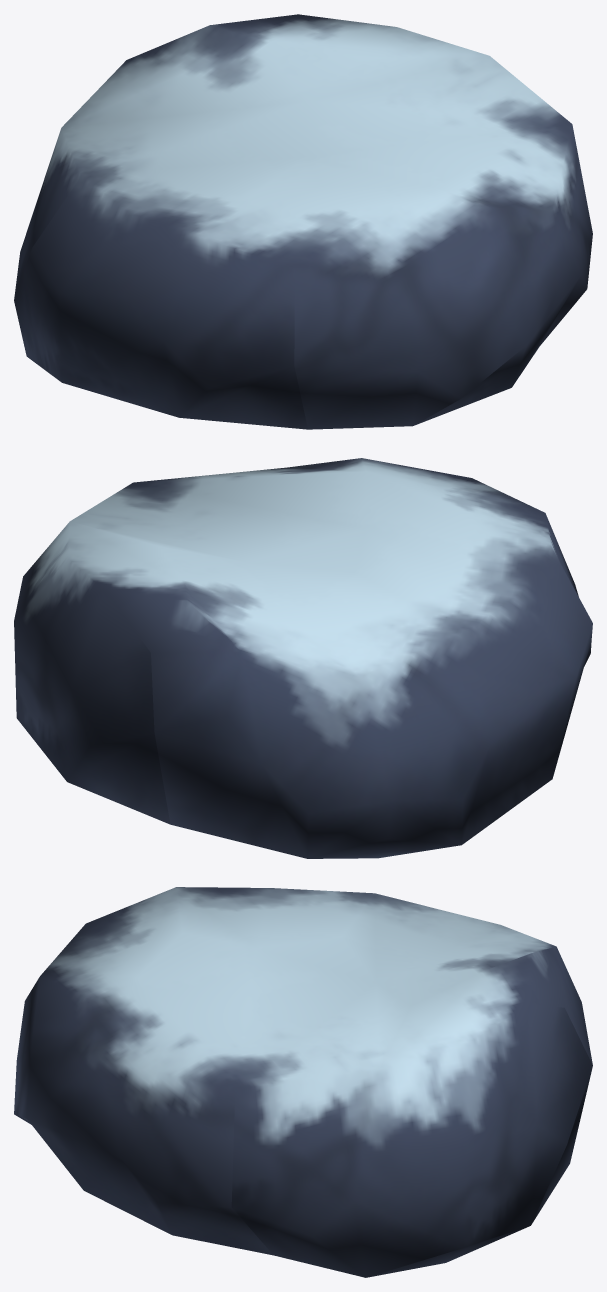
Rendered from Boulder_SizeM.fbx.
The picture shows the model from 3 angles, top to bottom: view 1: azimuth 30°, elevation 25°; view 2: azimuth 150°, elevation 25°; view 3: azimuth 270°, elevation 25°; orthographic projection. The views are drawn at different scales.
Visible parts, largest first — view 1: bolder8; view 2: bolder8; view 3: bolder8.
Boxes of the visible parts, x1,y1,x2,y2 form: bolder8: (14, 14, 592, 429); bolder8: (14, 458, 592, 858); bolder8: (14, 887, 592, 1277).
Size of the model in its own units: 0.0187 by 0.00834 by 0.0183.
